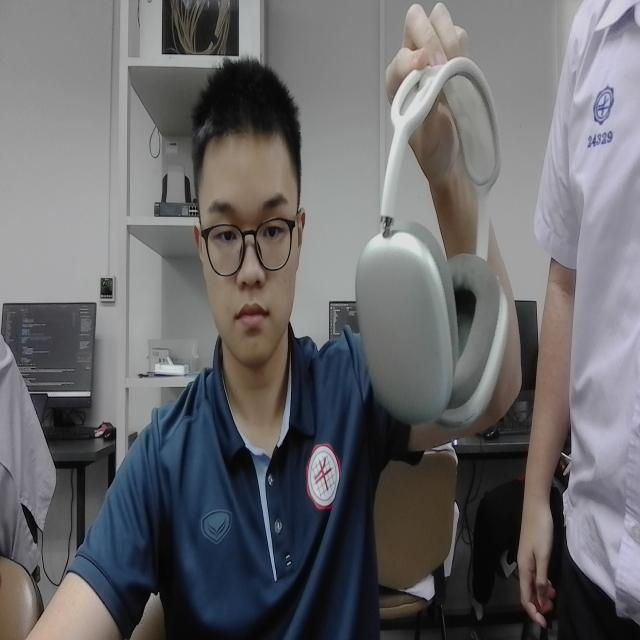airpods max: (344, 37, 512, 443)
